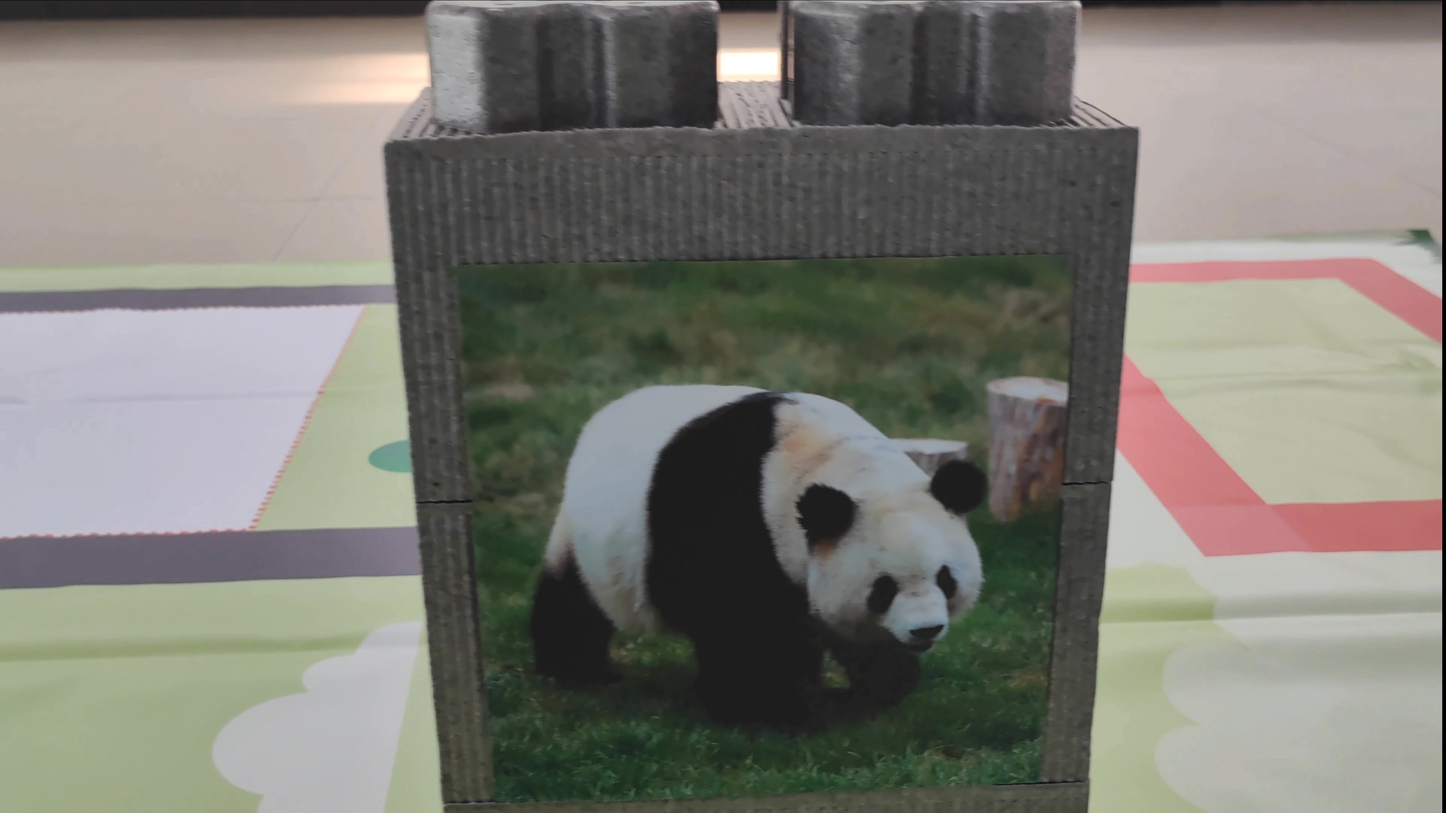panda: (517, 348, 1000, 767)
